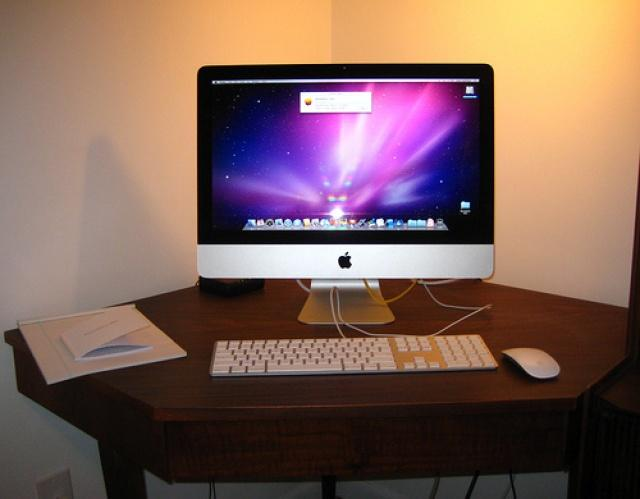AIO PC-Monitor-TV: (196, 63, 495, 323)
